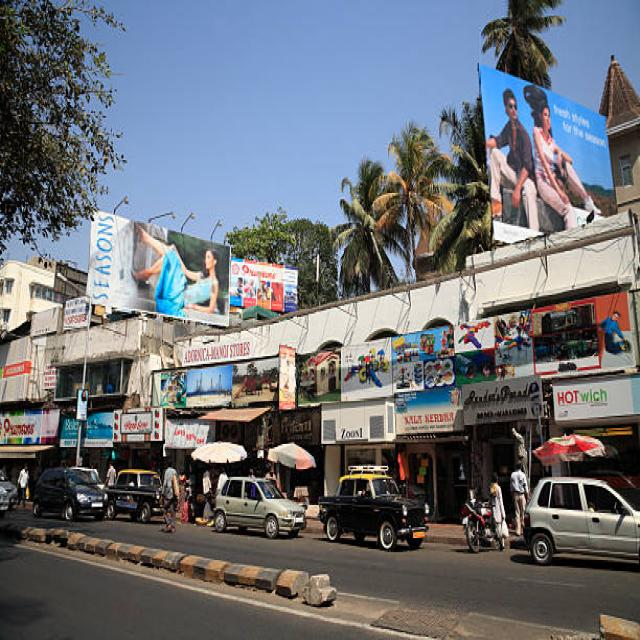Werbetafel frei: (480, 61, 621, 237), (89, 210, 231, 323), (232, 256, 303, 318)
